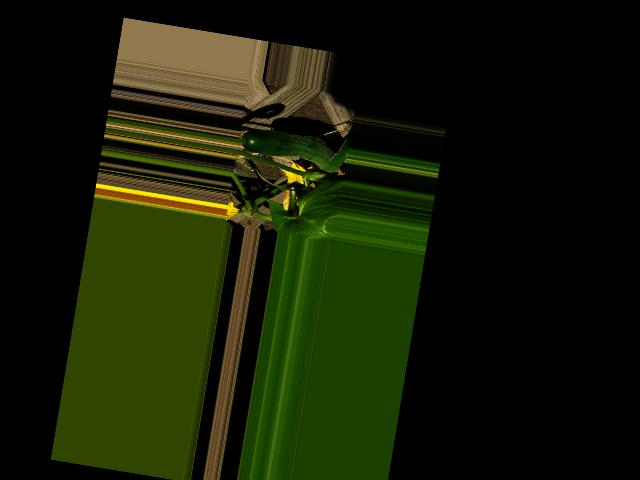cucumber: (240, 125, 349, 174)
